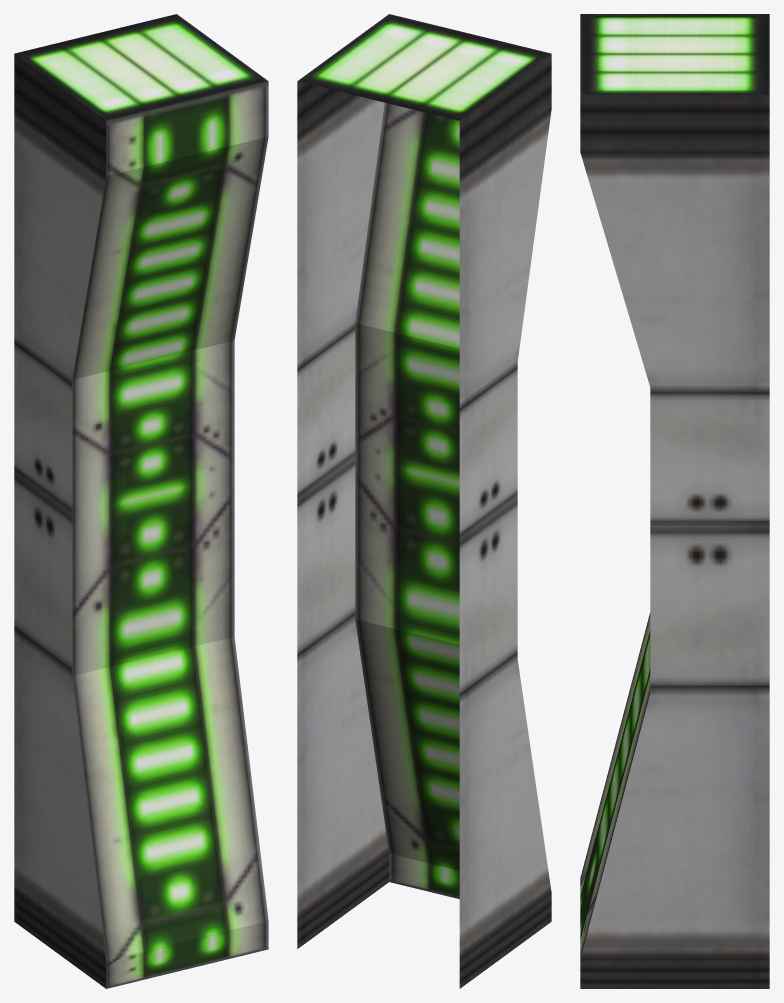
Rendered from decoracaoparede3.fbx.
The picture shows the model from 3 angles, left to right: view 1: azimuth 30°, elevation 25°; view 2: azimuth 150°, elevation 25°; view 3: azimuth 270°, elevation 25°; orthographic projection. The views are drawn at different scales.
Visible parts, largest first — view 1: Cylinder; view 2: Cylinder; view 3: Cylinder.
Part boxes in pixels (x1=…): Cylinder: x1=14, y1=14, x2=268, y2=988; Cylinder: x1=297, y1=14, x2=551, y2=988; Cylinder: x1=580, y1=14, x2=769, y2=988.
Size of the model in its own units: 0.585 by 2.99 by 0.5736.
